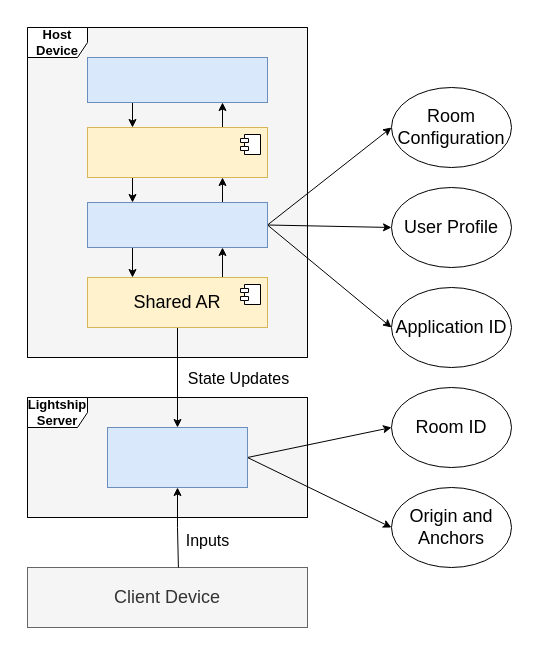
This 544x654 diagram has some shape labels left out. The shapes that lost their labels are listed below. From the top down, each one's box as (x1, y1, x2, y2) in pixels, then its label:
(86, 56, 268, 102): Device Core
(86, 126, 268, 178): ARFoundation
(86, 202, 268, 248): CollabAR Core
(106, 426, 248, 488): Room
